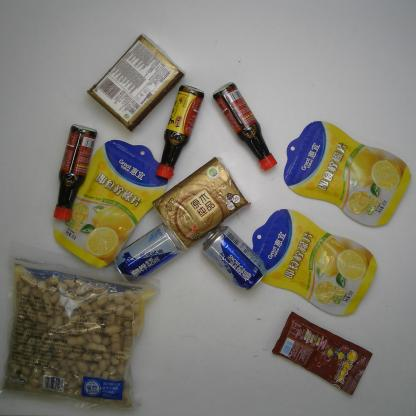Alcohol: (200, 224, 268, 292), (114, 221, 183, 283)
Candy: (271, 310, 374, 397)
Dried Food: (0, 240, 161, 413)
Dried Fruit: (53, 138, 169, 268), (282, 120, 412, 228), (251, 208, 378, 316)
Seasoner: (211, 81, 279, 172), (156, 84, 205, 180), (52, 123, 98, 221)
Tissue: (85, 32, 186, 132), (151, 156, 252, 250)
